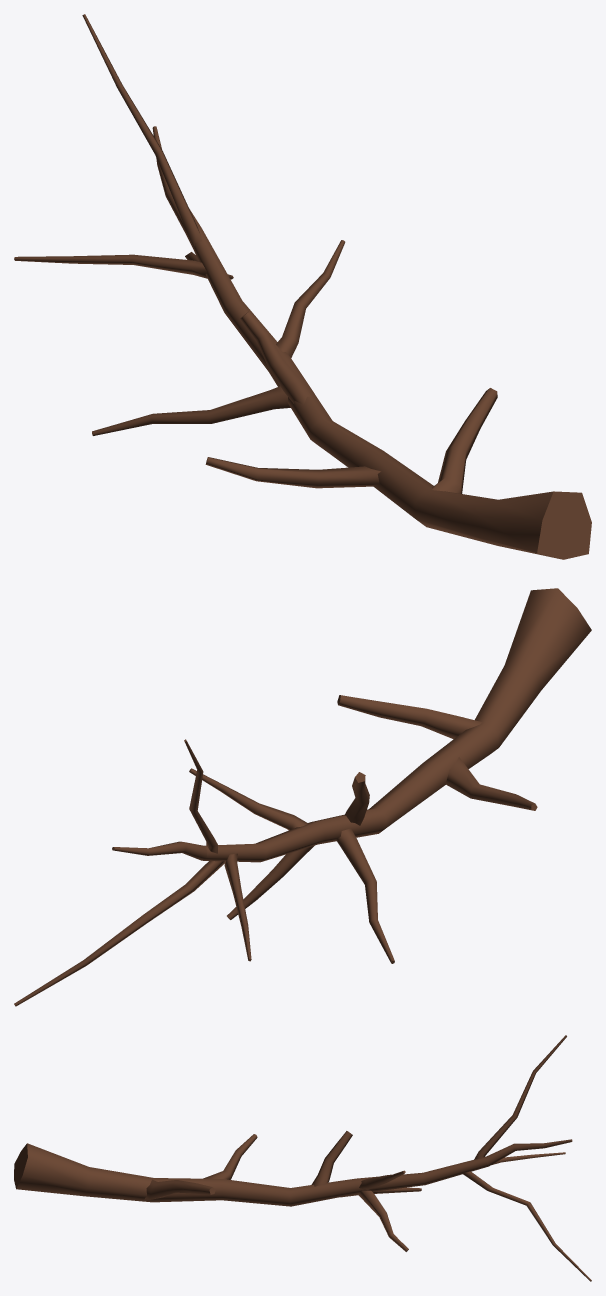
Rendered from itch_assetquest_pond_branch_1b.glb.
3 renders of one model, top to bottom at view 1: azimuth 30°, elevation 25°; view 2: azimuth 150°, elevation 25°; view 3: azimuth 270°, elevation 25°, orthographic. The views are drawn at different scales.
Visible parts, largest first — view 1: Branch_1b; view 2: Branch_1b; view 3: Branch_1b.
Part boxes in pixels (x1=…): Branch_1b: x1=14, y1=14, x2=591, y2=559; Branch_1b: x1=14, y1=588, x2=591, y2=1006; Branch_1b: x1=14, y1=1035, x2=591, y2=1281.
Size of the model in its own units: 0.3554 by 0.3605 by 0.96.
